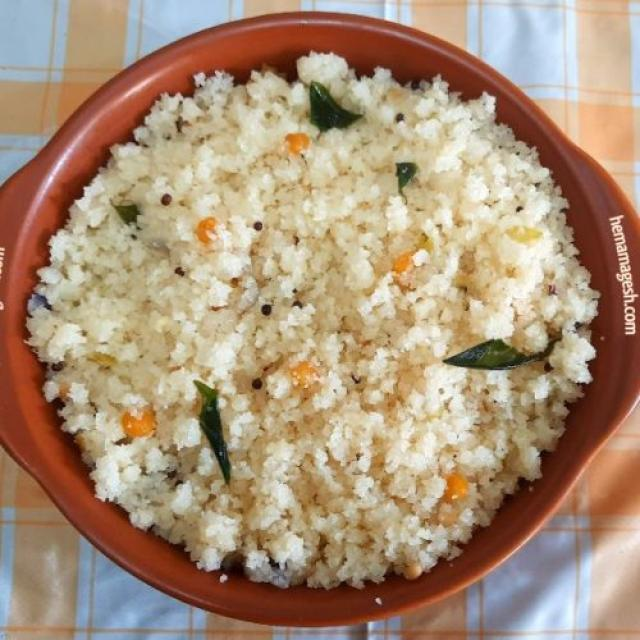UPMA: (28, 54, 598, 586)
